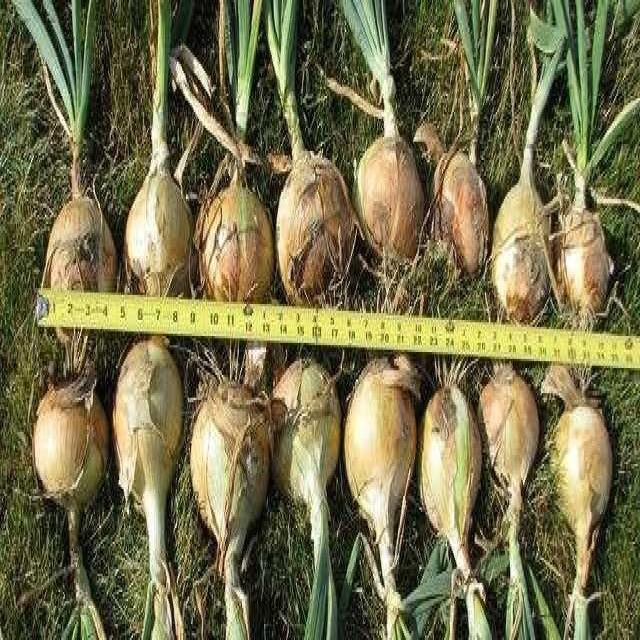onion: (342, 361, 424, 604), (113, 338, 185, 551), (187, 393, 275, 567), (542, 400, 614, 603), (120, 162, 201, 338), (45, 185, 117, 382), (196, 165, 274, 345), (277, 148, 354, 324), (273, 361, 341, 544), (421, 384, 489, 558), (29, 377, 110, 521), (354, 133, 429, 265), (490, 174, 552, 327), (481, 366, 540, 521), (432, 151, 491, 281), (554, 205, 611, 334)
